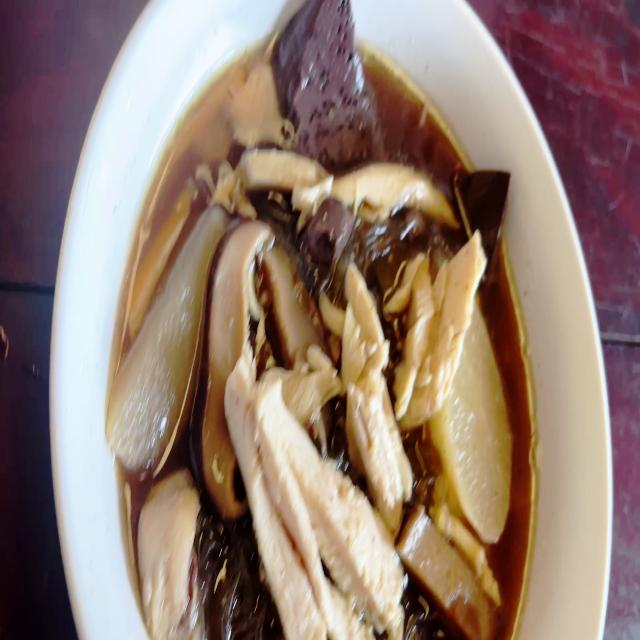boiled_chicken_blood_jelly: (276, 0, 367, 156), (461, 160, 514, 255), (309, 196, 346, 266)
chicken_shredded: (224, 370, 394, 637), (346, 266, 406, 528), (395, 241, 479, 407), (139, 471, 200, 636), (220, 136, 330, 204), (328, 156, 453, 214)
daikon_radish: (110, 220, 204, 460), (443, 343, 508, 520)
noodle: (107, 45, 530, 640)
